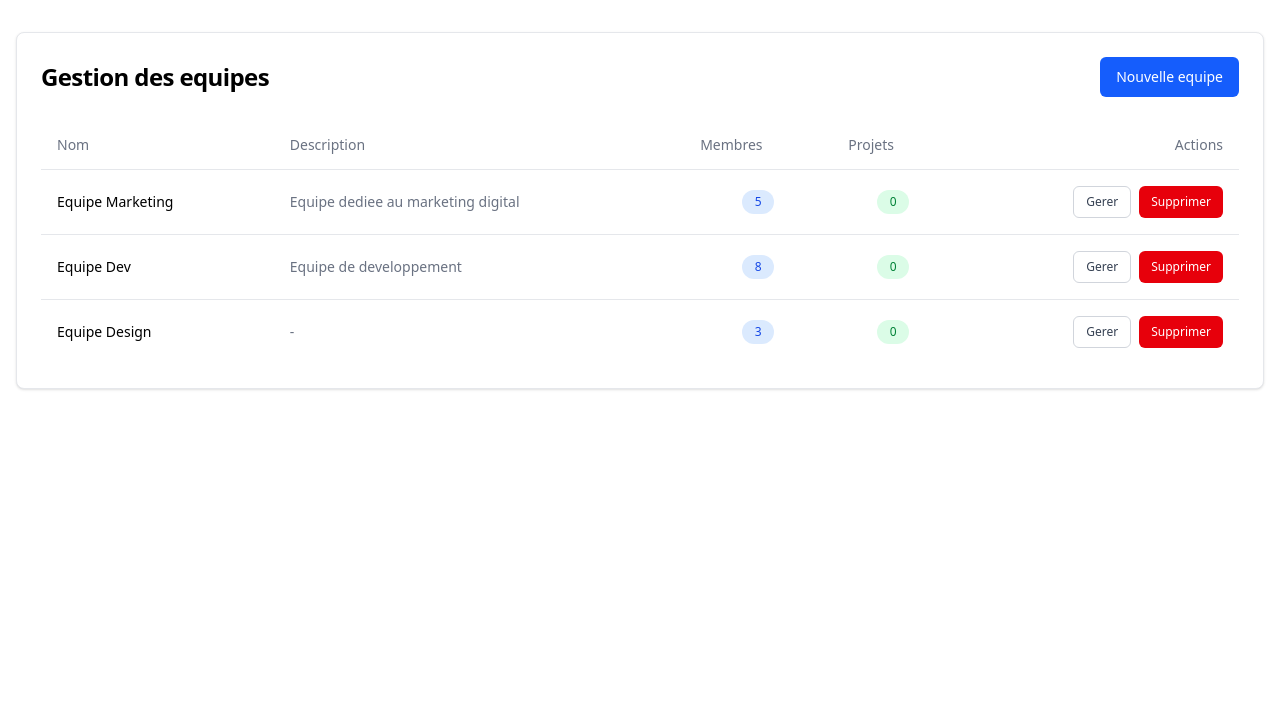
Scenario: TeamsPage › AC2: Create Team Modal › opens create modal when clicking Create button
Click the button "Nouvelle equipe".
click(1170, 77)  # box left=1100, top=57, right=1239, bottom=97
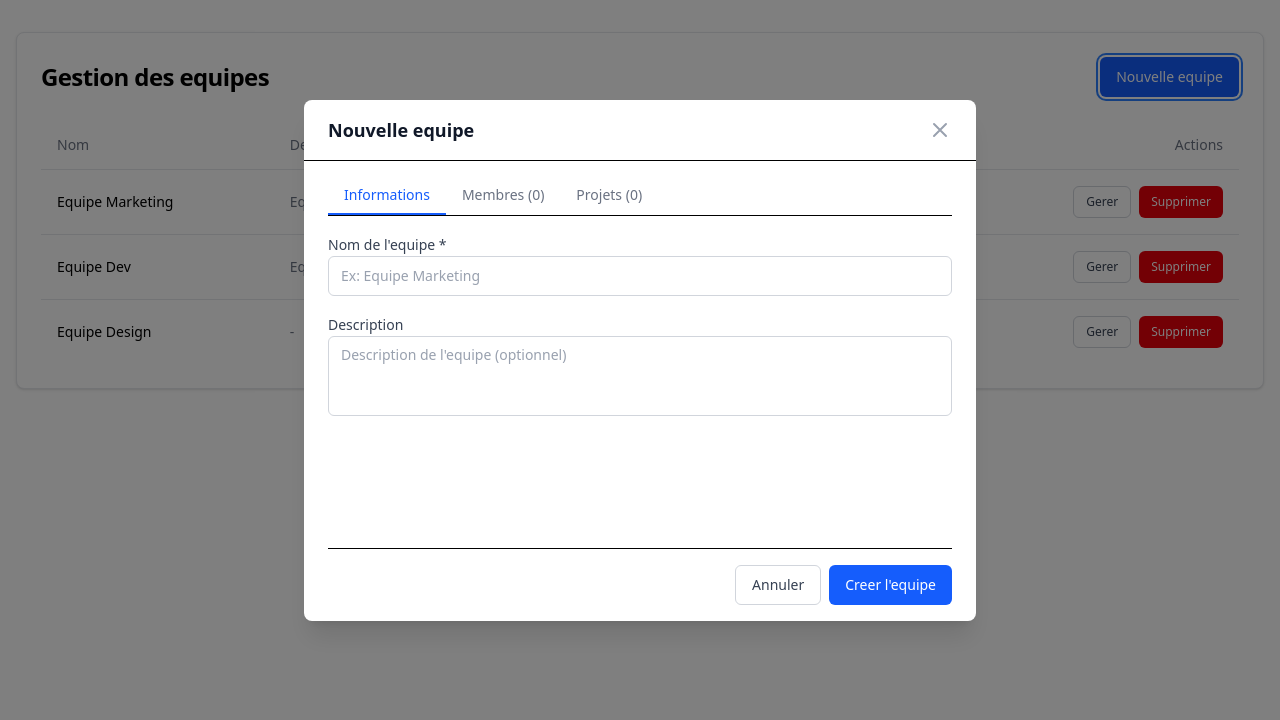
Expected: the heading "Nouvelle equipe" is shown, left=328, top=116, right=474, bottom=144
